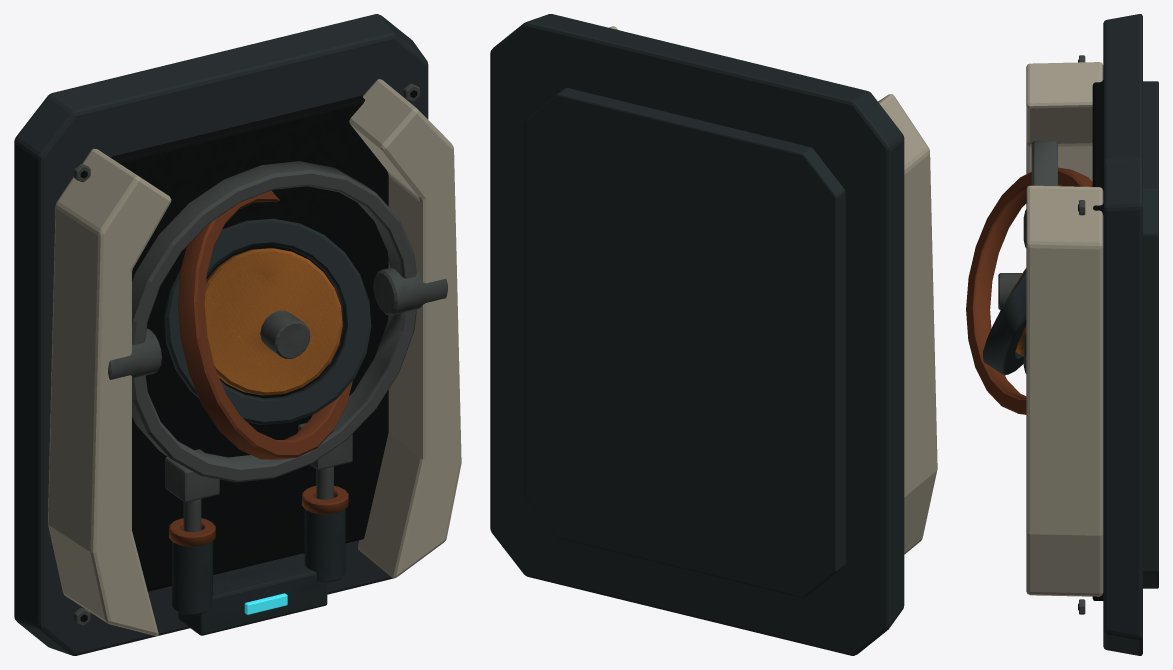
Rendered from inertia.glb.
3 renders of one model, left to right at view 1: azimuth 30°, elevation 25°; view 2: azimuth 150°, elevation 25°; view 3: azimuth 270°, elevation 25°, orthographic. The views are drawn at different scales.
Parts seen in each view (by area): view 1: steel, ivory, rubber, edge, paint, copper; view 2: steel, ivory; view 3: ivory, steel, copper, edge, rubber.
Part boxes in pixels (x1,y1,x2,y2): steel: (14, 14, 428, 655); ivory: (48, 79, 461, 635); rubber: (77, 90, 417, 622); edge: (74, 83, 447, 625); paint: (204, 248, 342, 395); copper: (169, 190, 352, 546); steel: (490, 14, 904, 655); ivory: (609, 26, 937, 554); ivory: (1026, 62, 1103, 596); steel: (983, 14, 1158, 655); copper: (966, 167, 1092, 414); edge: (998, 55, 1085, 614); rubber: (1078, 59, 1103, 610).
Bounding box in the file's own units: 0.1566 × 0.2076 × 0.0727.
Materials: 7 (6 with a texture image).
